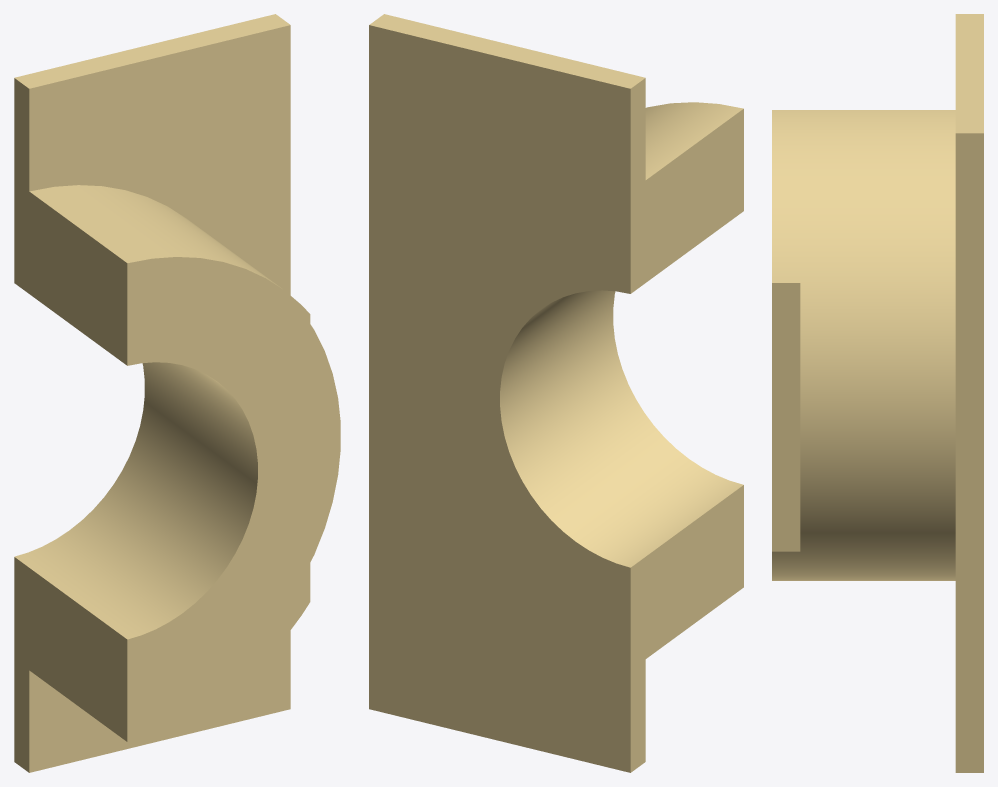
3 views of the same model, side by side, from view 1: azimuth 30°, elevation 25°; view 2: azimuth 150°, elevation 25°; view 3: azimuth 270°, elevation 25° (orthographic). The views are drawn at different scales.
Visible parts, largest first — view 1: mesh93073, mesh93068, mesh93069, mesh93071, mesh93070, mesh93067, mesh93065, mesh93075; view 2: mesh93072, mesh93069, mesh93070, mesh93071, mesh93067, mesh93075; view 3: mesh93067, mesh93074, mesh93066, mesh93075.
Boxes of the visible parts, x1,y1,x2,y2 form: mesh93073: (29, 25, 290, 772); mesh93068: (127, 257, 310, 741); mesh93069: (14, 362, 257, 639); mesh93071: (14, 78, 127, 365); mesh93070: (14, 557, 127, 772); mesh93067: (29, 185, 281, 288); mesh93065: (310, 324, 340, 561); mesh93075: (14, 14, 289, 88); mesh93072: (369, 25, 630, 772); mesh93069: (500, 290, 743, 567); mesh93070: (630, 485, 743, 772); mesh93071: (630, 78, 743, 293); mesh93067: (645, 102, 743, 179); mesh93075: (369, 14, 645, 88); mesh93067: (772, 110, 955, 580); mesh93074: (955, 133, 983, 772); mesh93066: (772, 283, 800, 551); mesh93075: (955, 14, 983, 133).
Size of the model in its own units: 0.0004 by 0.001 by 0.0003.
